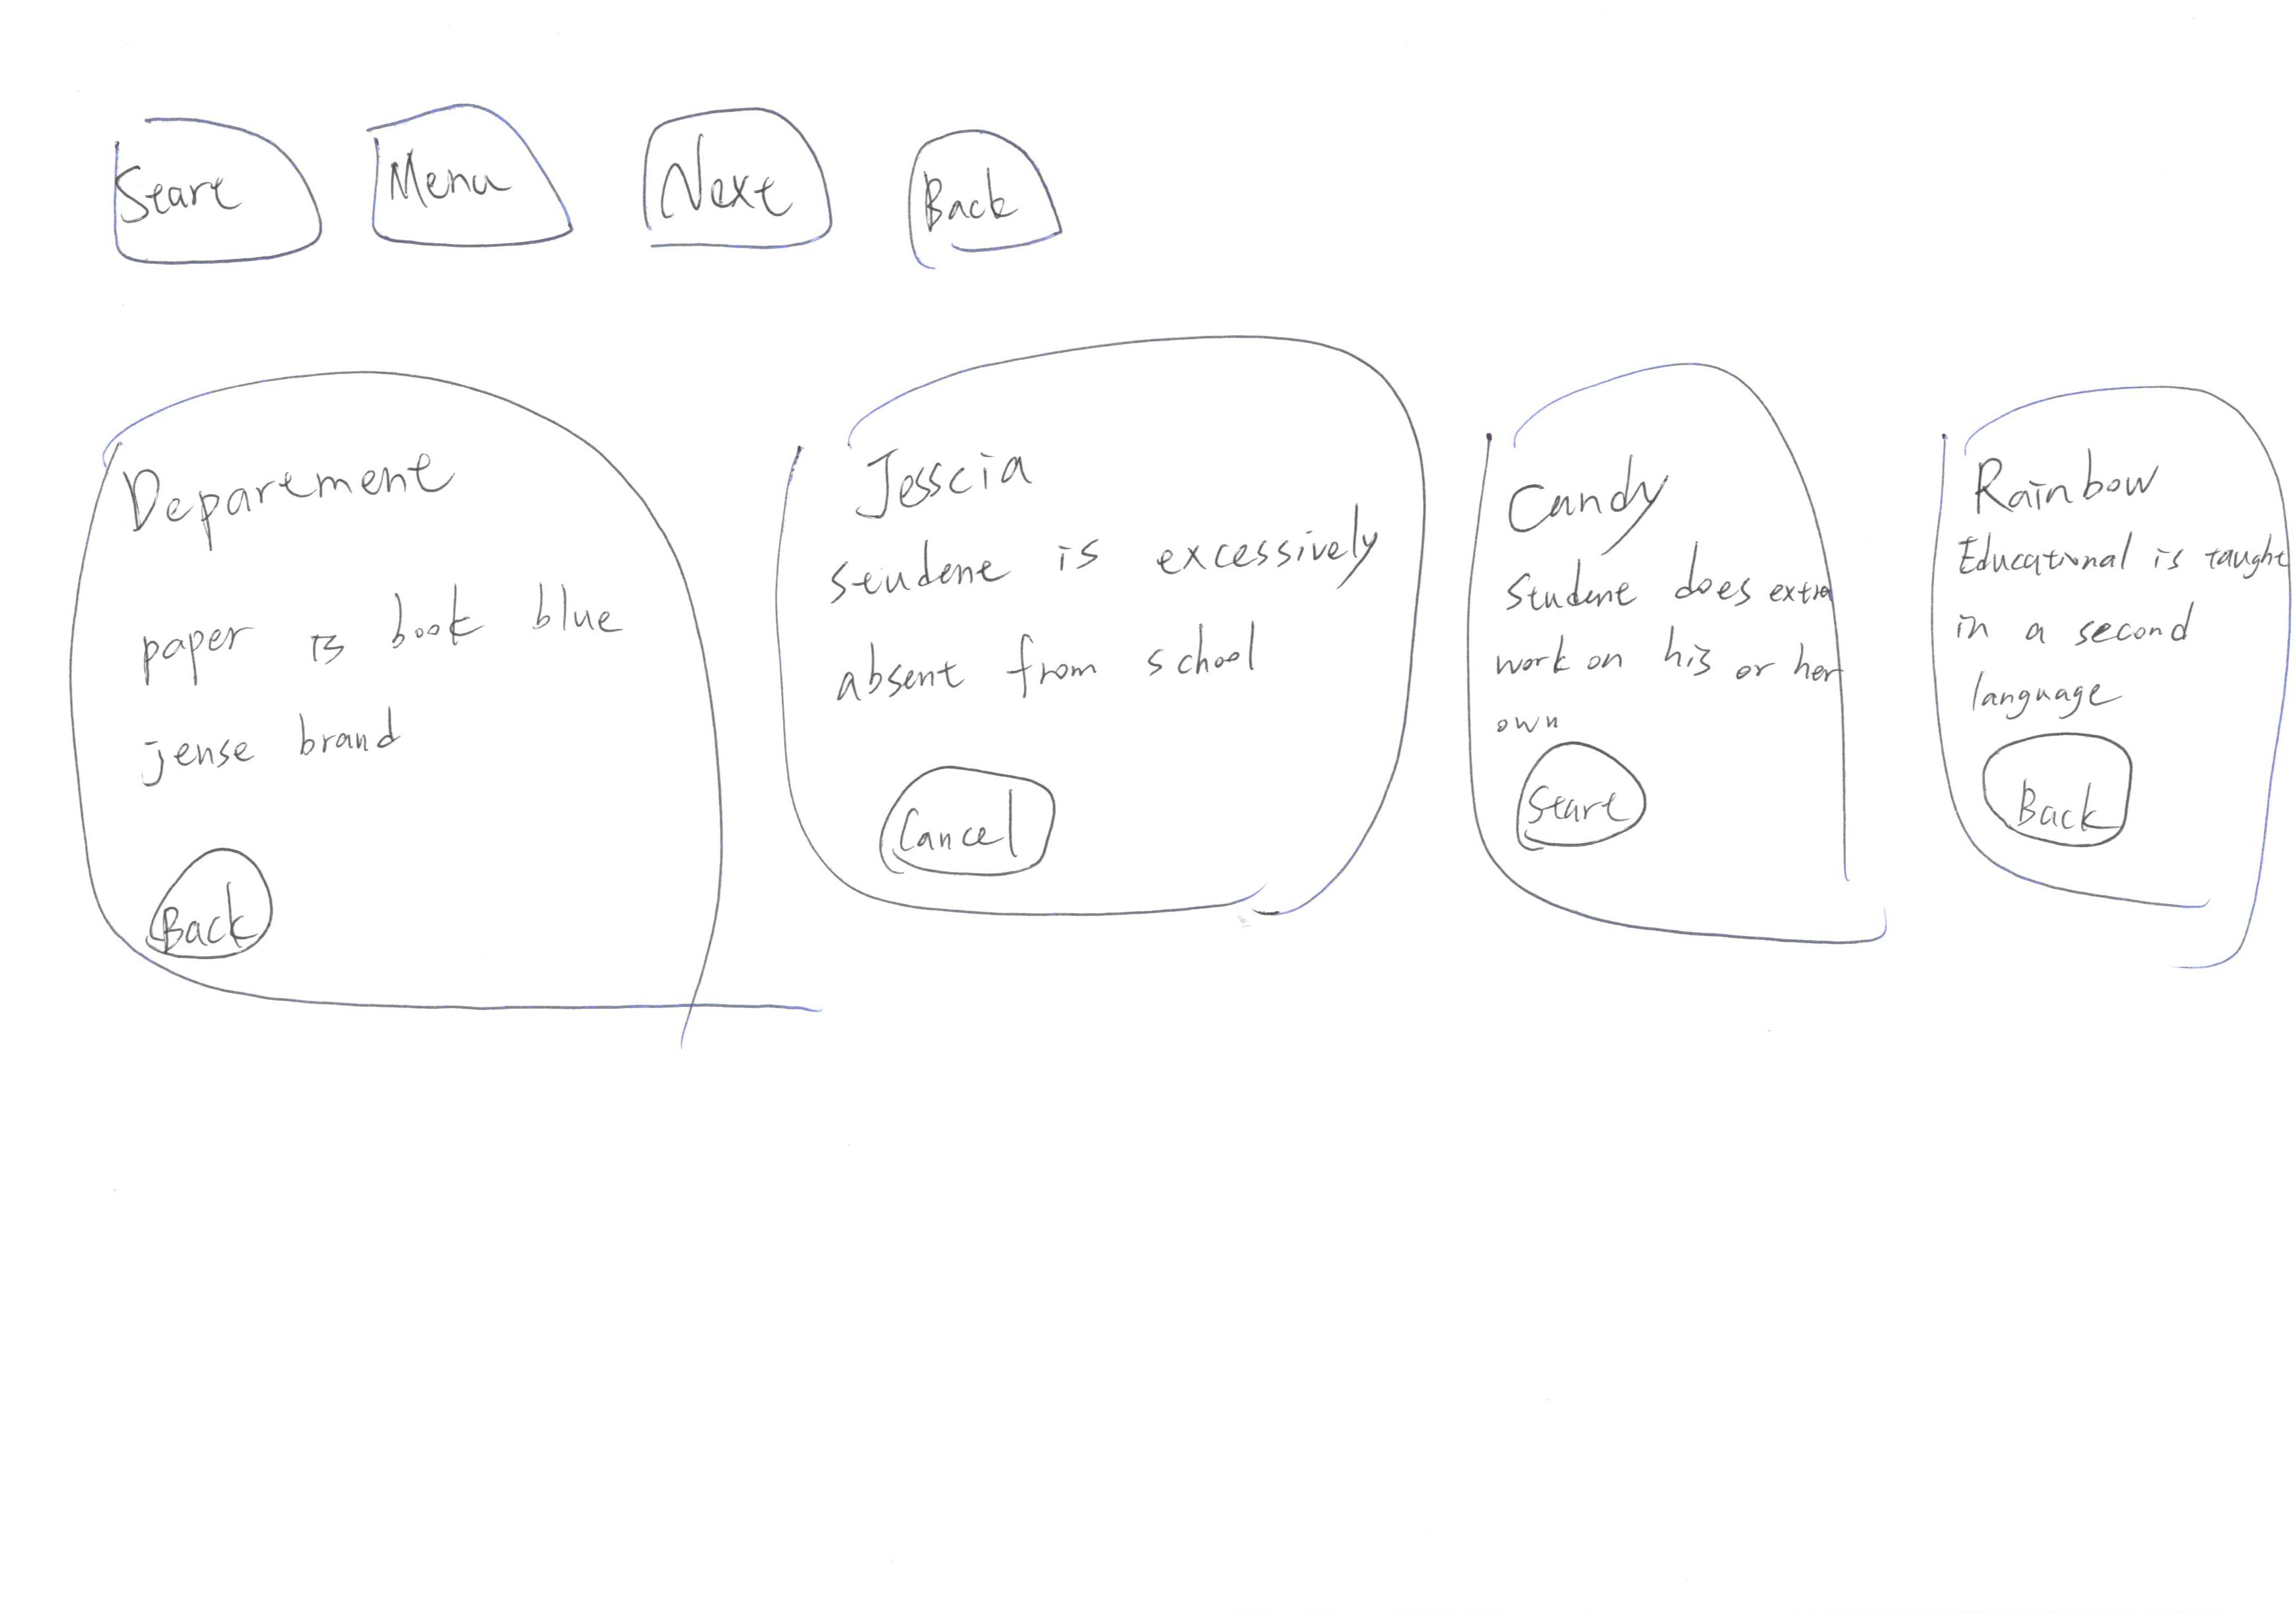back: (104, 821, 343, 1014), (1957, 703, 2150, 875), (902, 112, 1086, 278)
cancel: (868, 758, 1086, 903)
menu: (353, 90, 591, 302)
next: (628, 93, 851, 281)
quadruple: (67, 336, 770, 1070), (765, 325, 1454, 993), (1442, 320, 1902, 1000), (1900, 318, 2292, 1012)
row: (0, 297, 2296, 1100), (16, 11, 2199, 290)
small-title: (116, 408, 447, 550), (839, 417, 1069, 533), (1985, 438, 2159, 520), (1503, 457, 1665, 540)
start: (67, 90, 341, 306), (1505, 726, 1658, 872)
text: (121, 559, 633, 766), (821, 522, 1399, 694), (1939, 547, 2268, 721), (1501, 557, 1816, 726)
